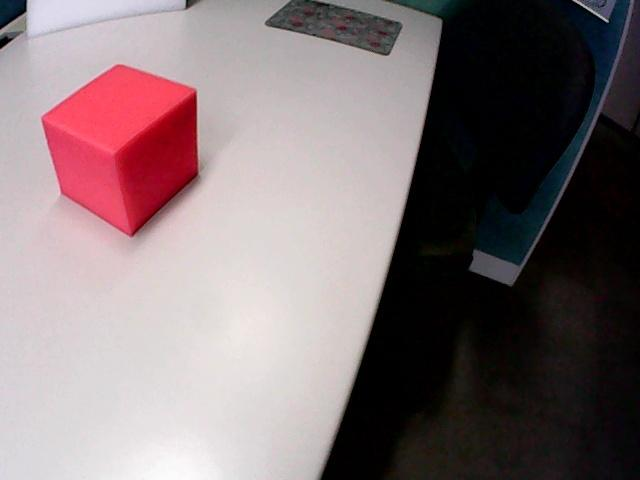red_block: (42, 65, 197, 234)
